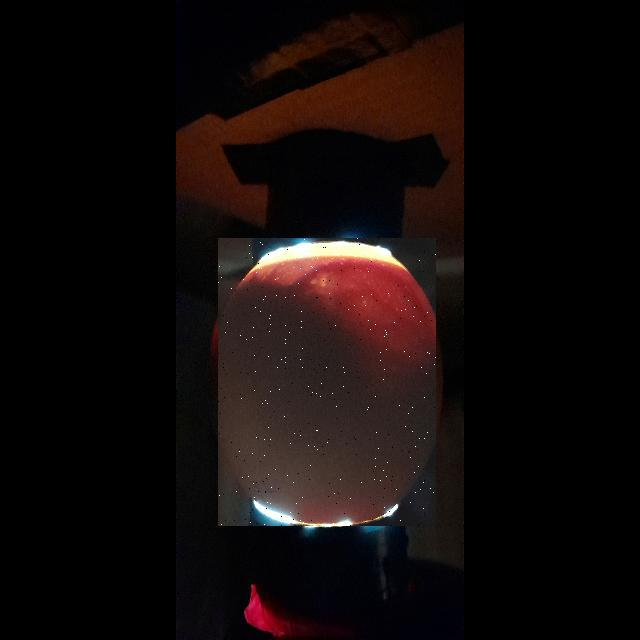Fertile: (218, 238, 436, 526)
